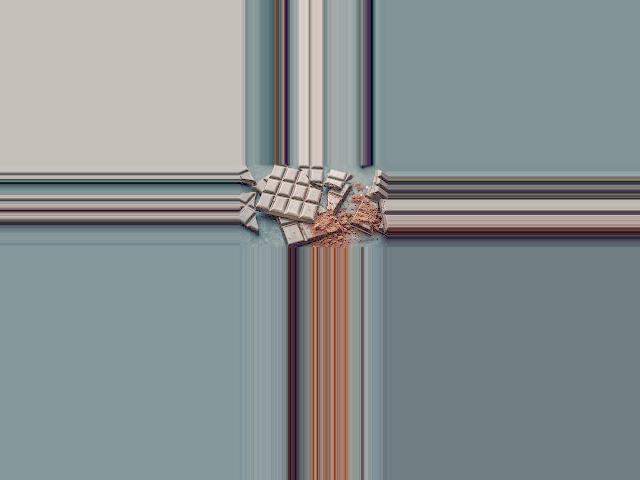chocolate: (254, 165, 320, 221)
